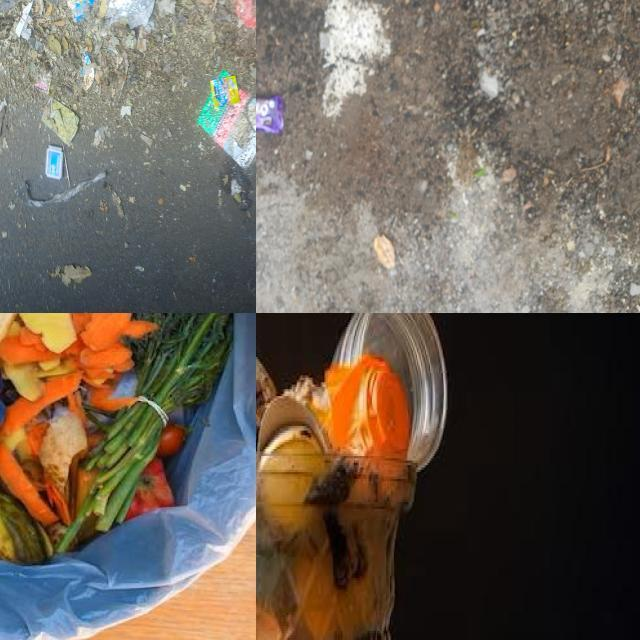Background: (256, 0, 640, 313)
Disposable: (333, 313, 448, 467)
Garbage: (256, 313, 446, 640), (0, 313, 234, 564)
Plastic_Container: (256, 452, 415, 640)
Plastic_wraper: (198, 71, 256, 168), (100, 0, 155, 27), (256, 356, 276, 428), (256, 96, 282, 134), (15, 2, 33, 38), (67, 0, 94, 23), (81, 52, 96, 90), (34, 71, 51, 94), (23, 15, 25, 17)
